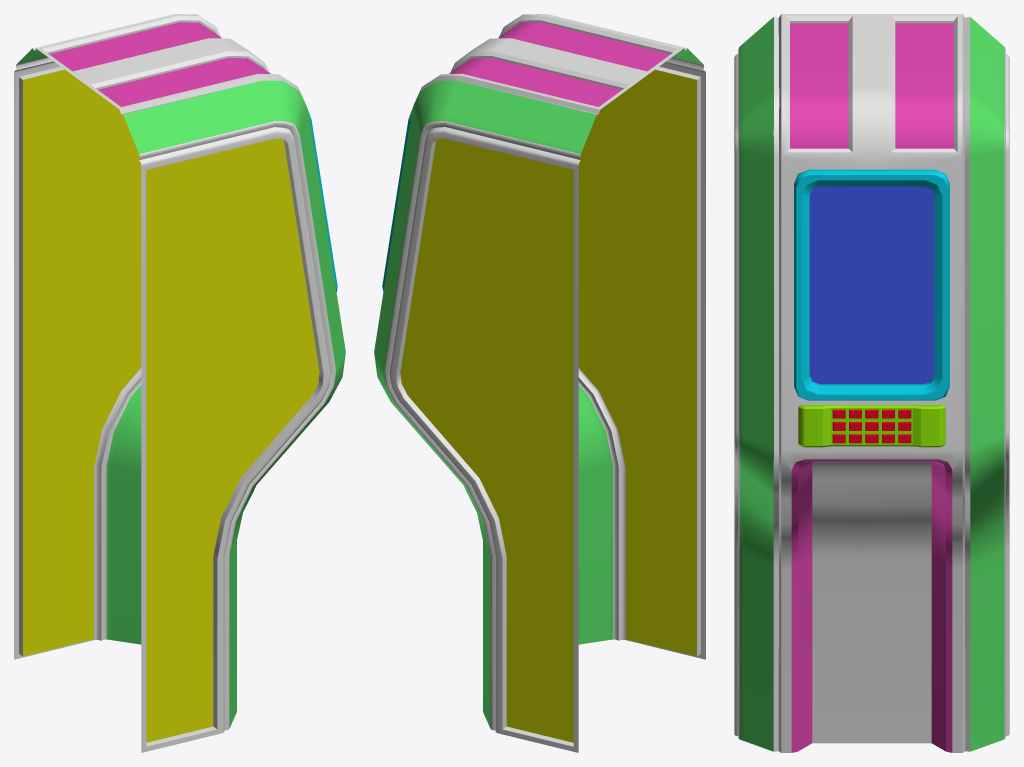
Rendered from SM_Screen.fbx.
3 views of the same model, side by side, from view 1: azimuth 30°, elevation 25°; view 2: azimuth 150°, elevation 25°; view 3: azimuth 270°, elevation 25° (orthographic). The views are drawn at different scales.
Visible parts, largest first — view 1: Cube.016; view 2: Cube.016; view 3: Cube.016.
Part boxes in pixels (<box>): Cube.016: <box>14,14,345,752</box>; Cube.016: <box>374,14,705,752</box>; Cube.016: <box>734,14,1009,752</box>.
Bounding box in the file's own units: 64.61 × 168 × 61.94.
